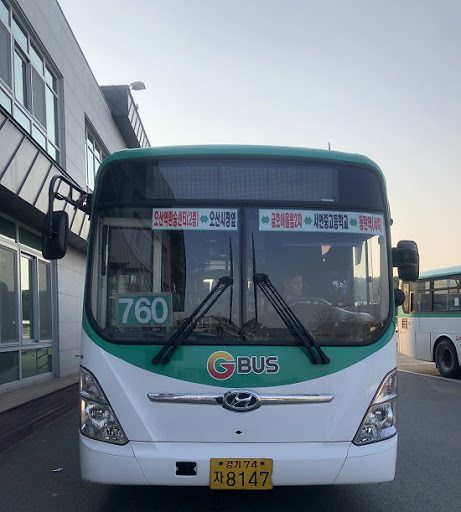bnum: (117, 294, 171, 325)
